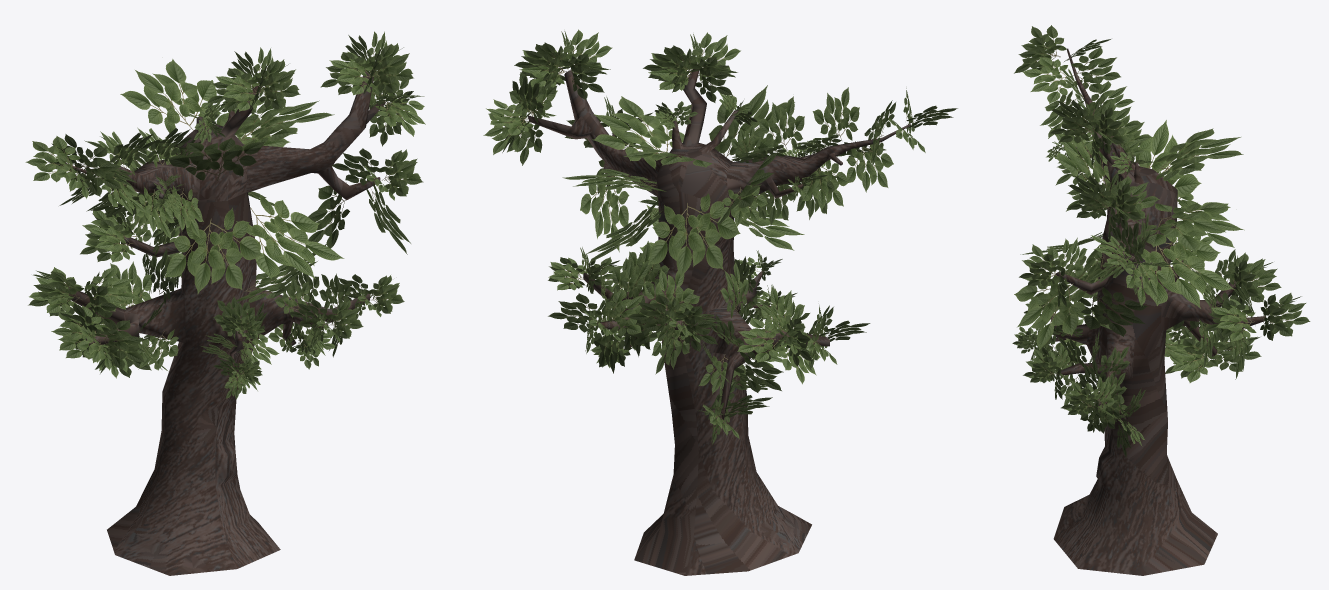
Rendered from Arbol_1.fbx.
The picture shows the model from 3 angles, left to right: view 1: azimuth 30°, elevation 25°; view 2: azimuth 150°, elevation 25°; view 3: azimuth 270°, elevation 25°; orthographic projection. The views are drawn at different scales.
Parts seen in each view (by area): view 1: Arbol_01; view 2: Arbol_01; view 3: Arbol_01.
Part boxes in pixels (x1,y1,x2,y2): Arbol_01: (25,31,425,575); Arbol_01: (483,29,957,575); Arbol_01: (1012,25,1310,575).
Size of the model in its own units: 2521 by 2746 by 1700.
